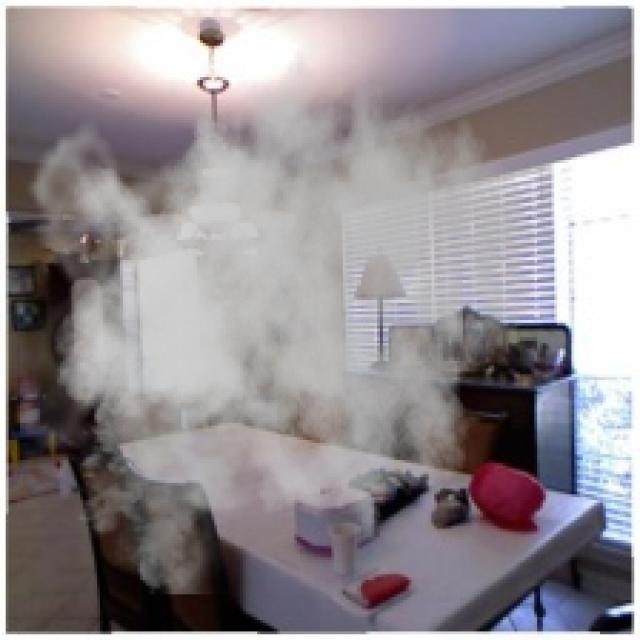Smoke: (19, 26, 534, 594)
